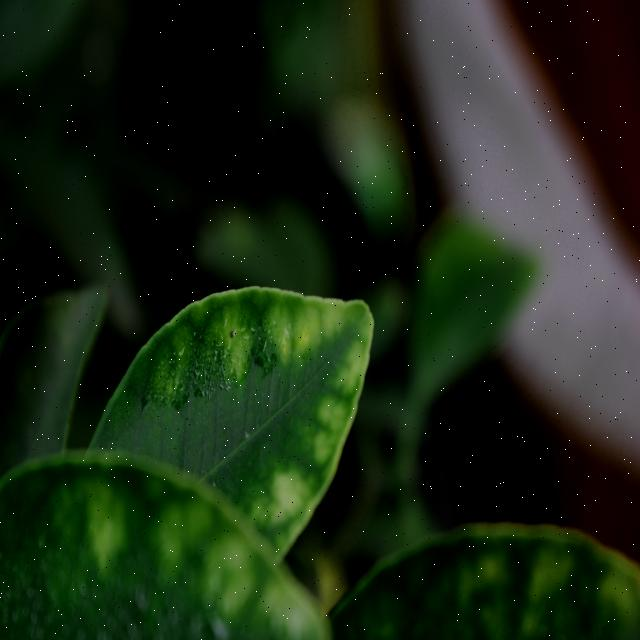greening: (122, 290, 374, 547)
